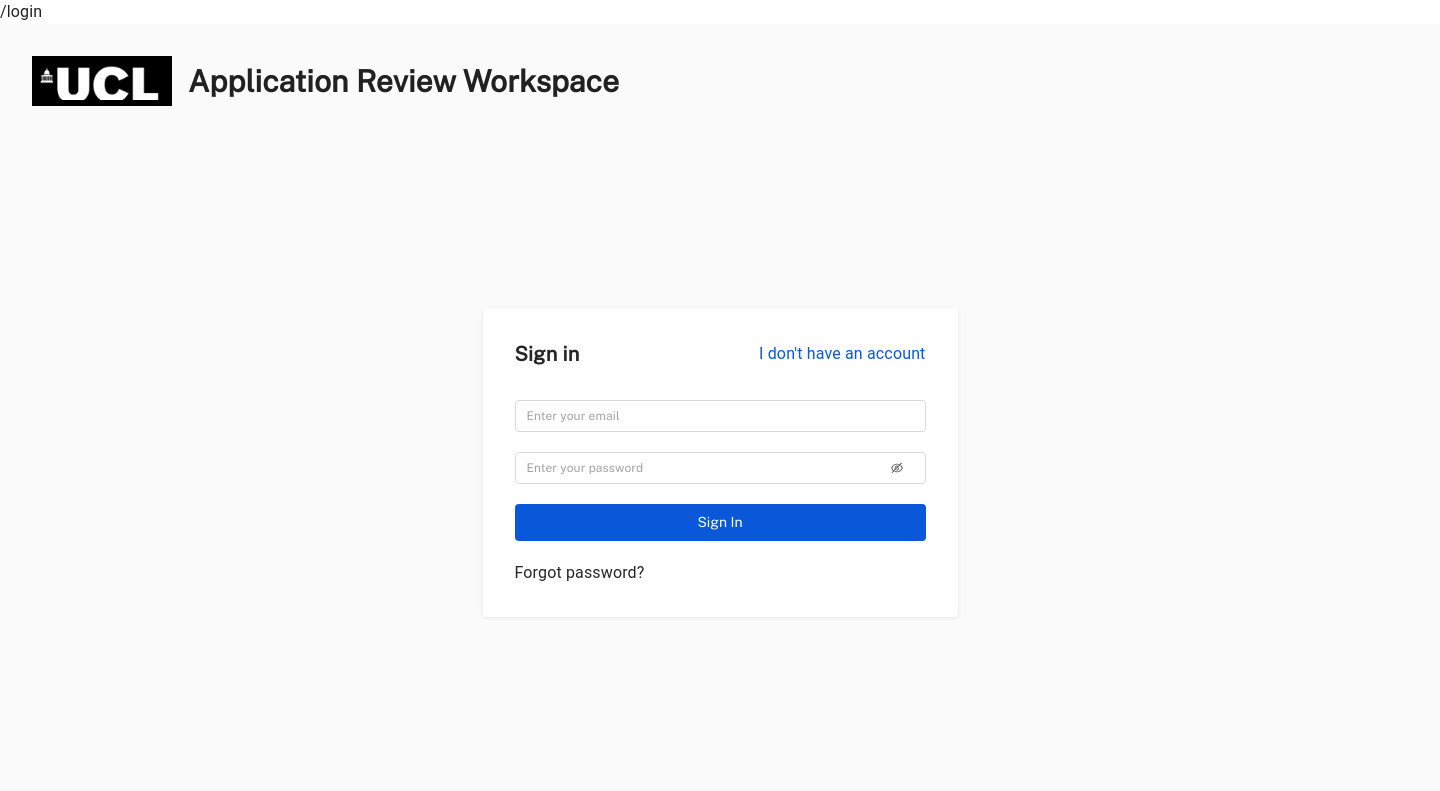
Test: Mantis sign-in › lists only active prototype accounts and fills the chosen email
Step 1. Click the button "I don't have an account" → (842, 354), box [759,342,926,366]
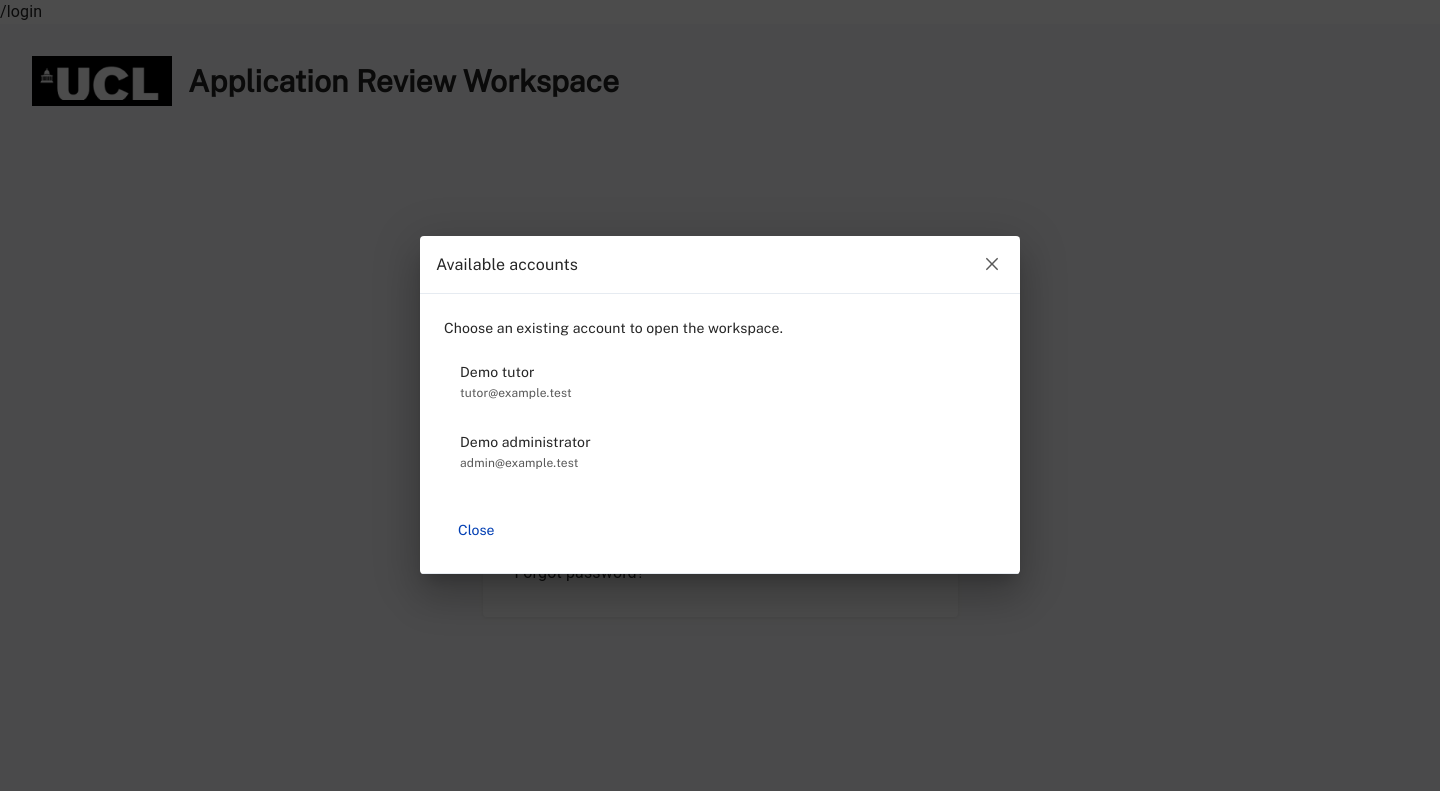
Expected: the number of list items is 2
Step 2. Click the button "Demo administrator admin@example.test" → (525, 452), box [460,434,591,470]
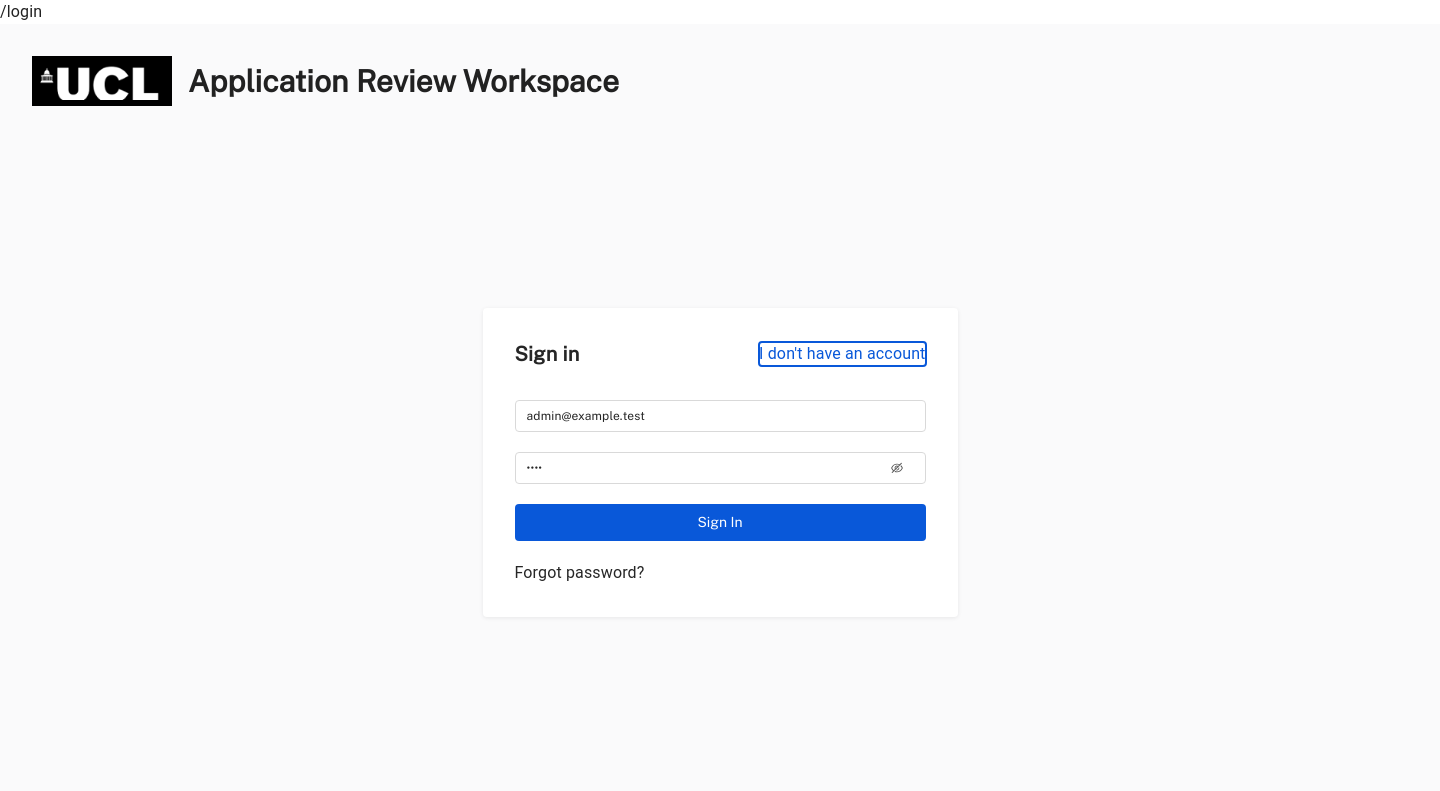
Expected: the dialog is gone
Expected: the field named "email" holds "admin@example.test", [514,400,926,432]
